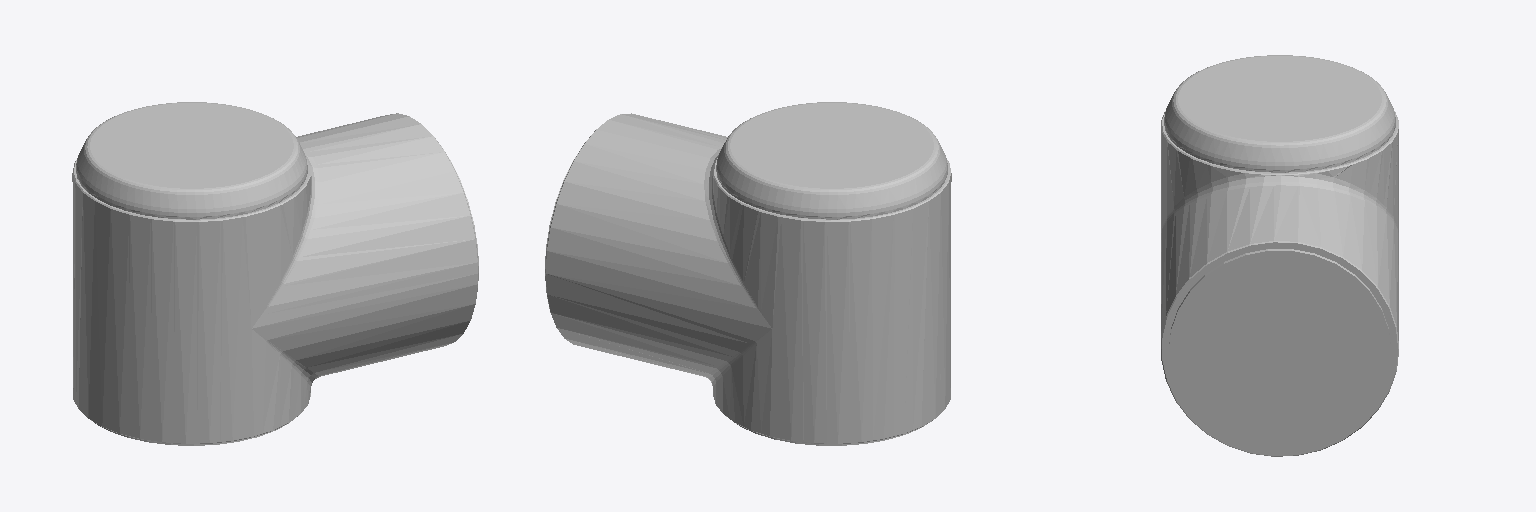
The model's file is wrist_flex_link.obj.
3 views of the same model, side by side, from view 1: azimuth 30°, elevation 25°; view 2: azimuth 150°, elevation 25°; view 3: azimuth 270°, elevation 25° (orthographic).
Visible parts, largest first — view 1: wrist_flex_link_wrist flex link.002_Material_001.036; view 2: wrist_flex_link_wrist flex link.002_Material_001.036; view 3: wrist_flex_link_wrist flex link.002_Material_001.036.
Part boxes in pixels (bbox=[...]): wrist_flex_link_wrist flex link.002_Material_001.036: bbox=[72, 102, 478, 445]; wrist_flex_link_wrist flex link.002_Material_001.036: bbox=[545, 102, 951, 445]; wrist_flex_link_wrist flex link.002_Material_001.036: bbox=[1161, 55, 1398, 456].
Size of the model in its own units: 0.1685 by 0.121 by 0.104.